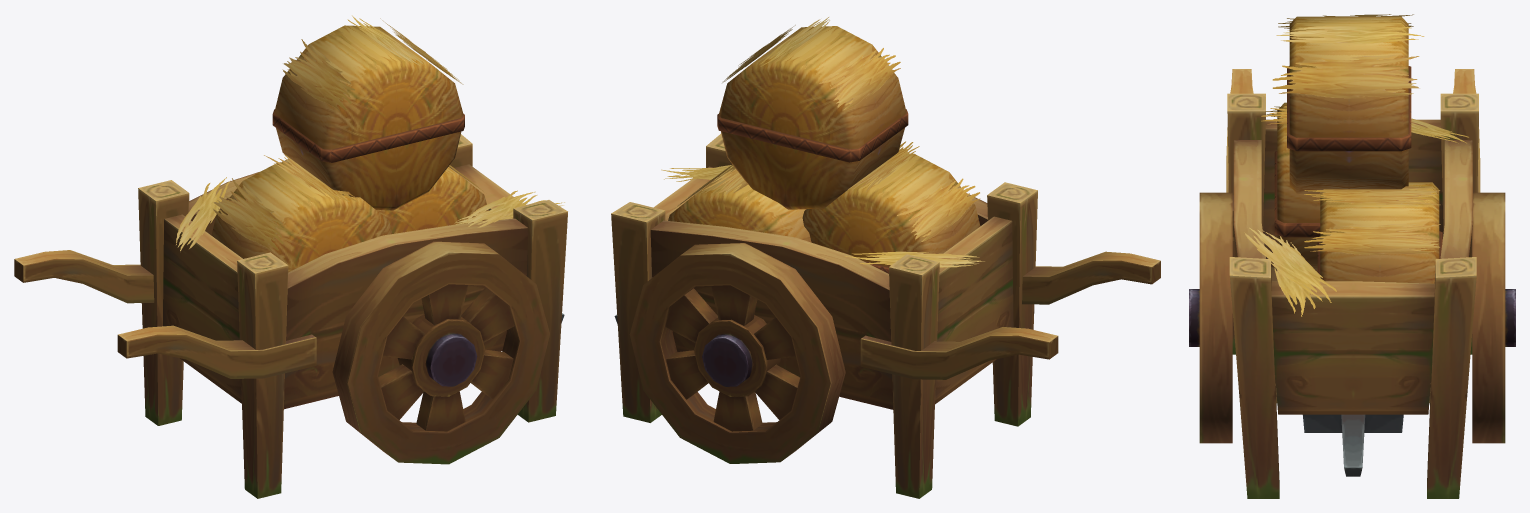
The model's file is map_1002_pengzi_02_b.FBX.
The picture shows the model from 3 angles, left to right: view 1: azimuth 30°, elevation 25°; view 2: azimuth 150°, elevation 25°; view 3: azimuth 270°, elevation 25°; orthographic projection. The views are drawn at different scales.
Visible parts, largest first — view 1: map_1002_pengzi_02_b; view 2: map_1002_pengzi_02_b; view 3: map_1002_pengzi_02_b.
Part boxes in pixels (left/top/right/bottom): map_1002_pengzi_02_b: left=14, top=15, right=567, bottom=498; map_1002_pengzi_02_b: left=611, top=17, right=1160, bottom=498; map_1002_pengzi_02_b: left=1189, top=14, right=1515, bottom=498.
Bounding box in the file's own units: 3.83 × 2.83 × 2.06.
